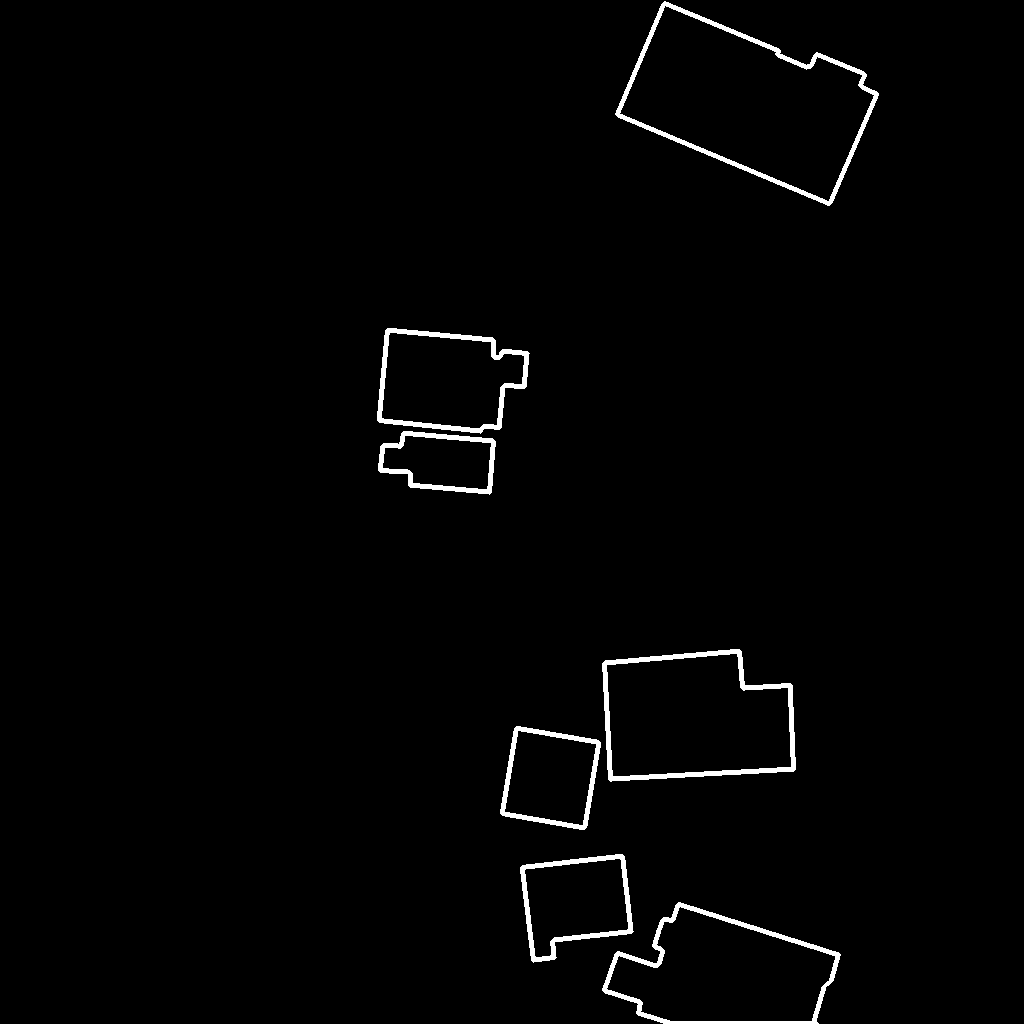building: (617, 3, 878, 205), (604, 904, 840, 1024), (604, 651, 795, 780), (379, 330, 528, 432), (522, 856, 632, 961), (502, 728, 600, 829), (380, 433, 495, 493)
